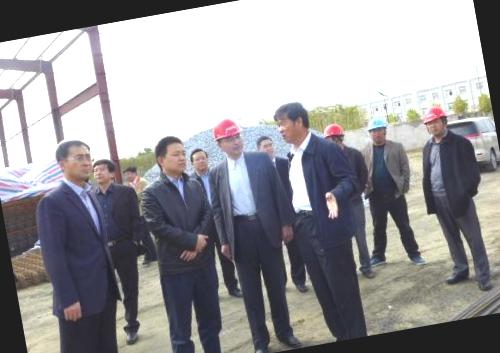no_helmet: (50, 133, 100, 187), (270, 94, 314, 149), (149, 130, 192, 184), (88, 152, 119, 190), (188, 140, 215, 174), (253, 132, 277, 162), (119, 159, 143, 185)
